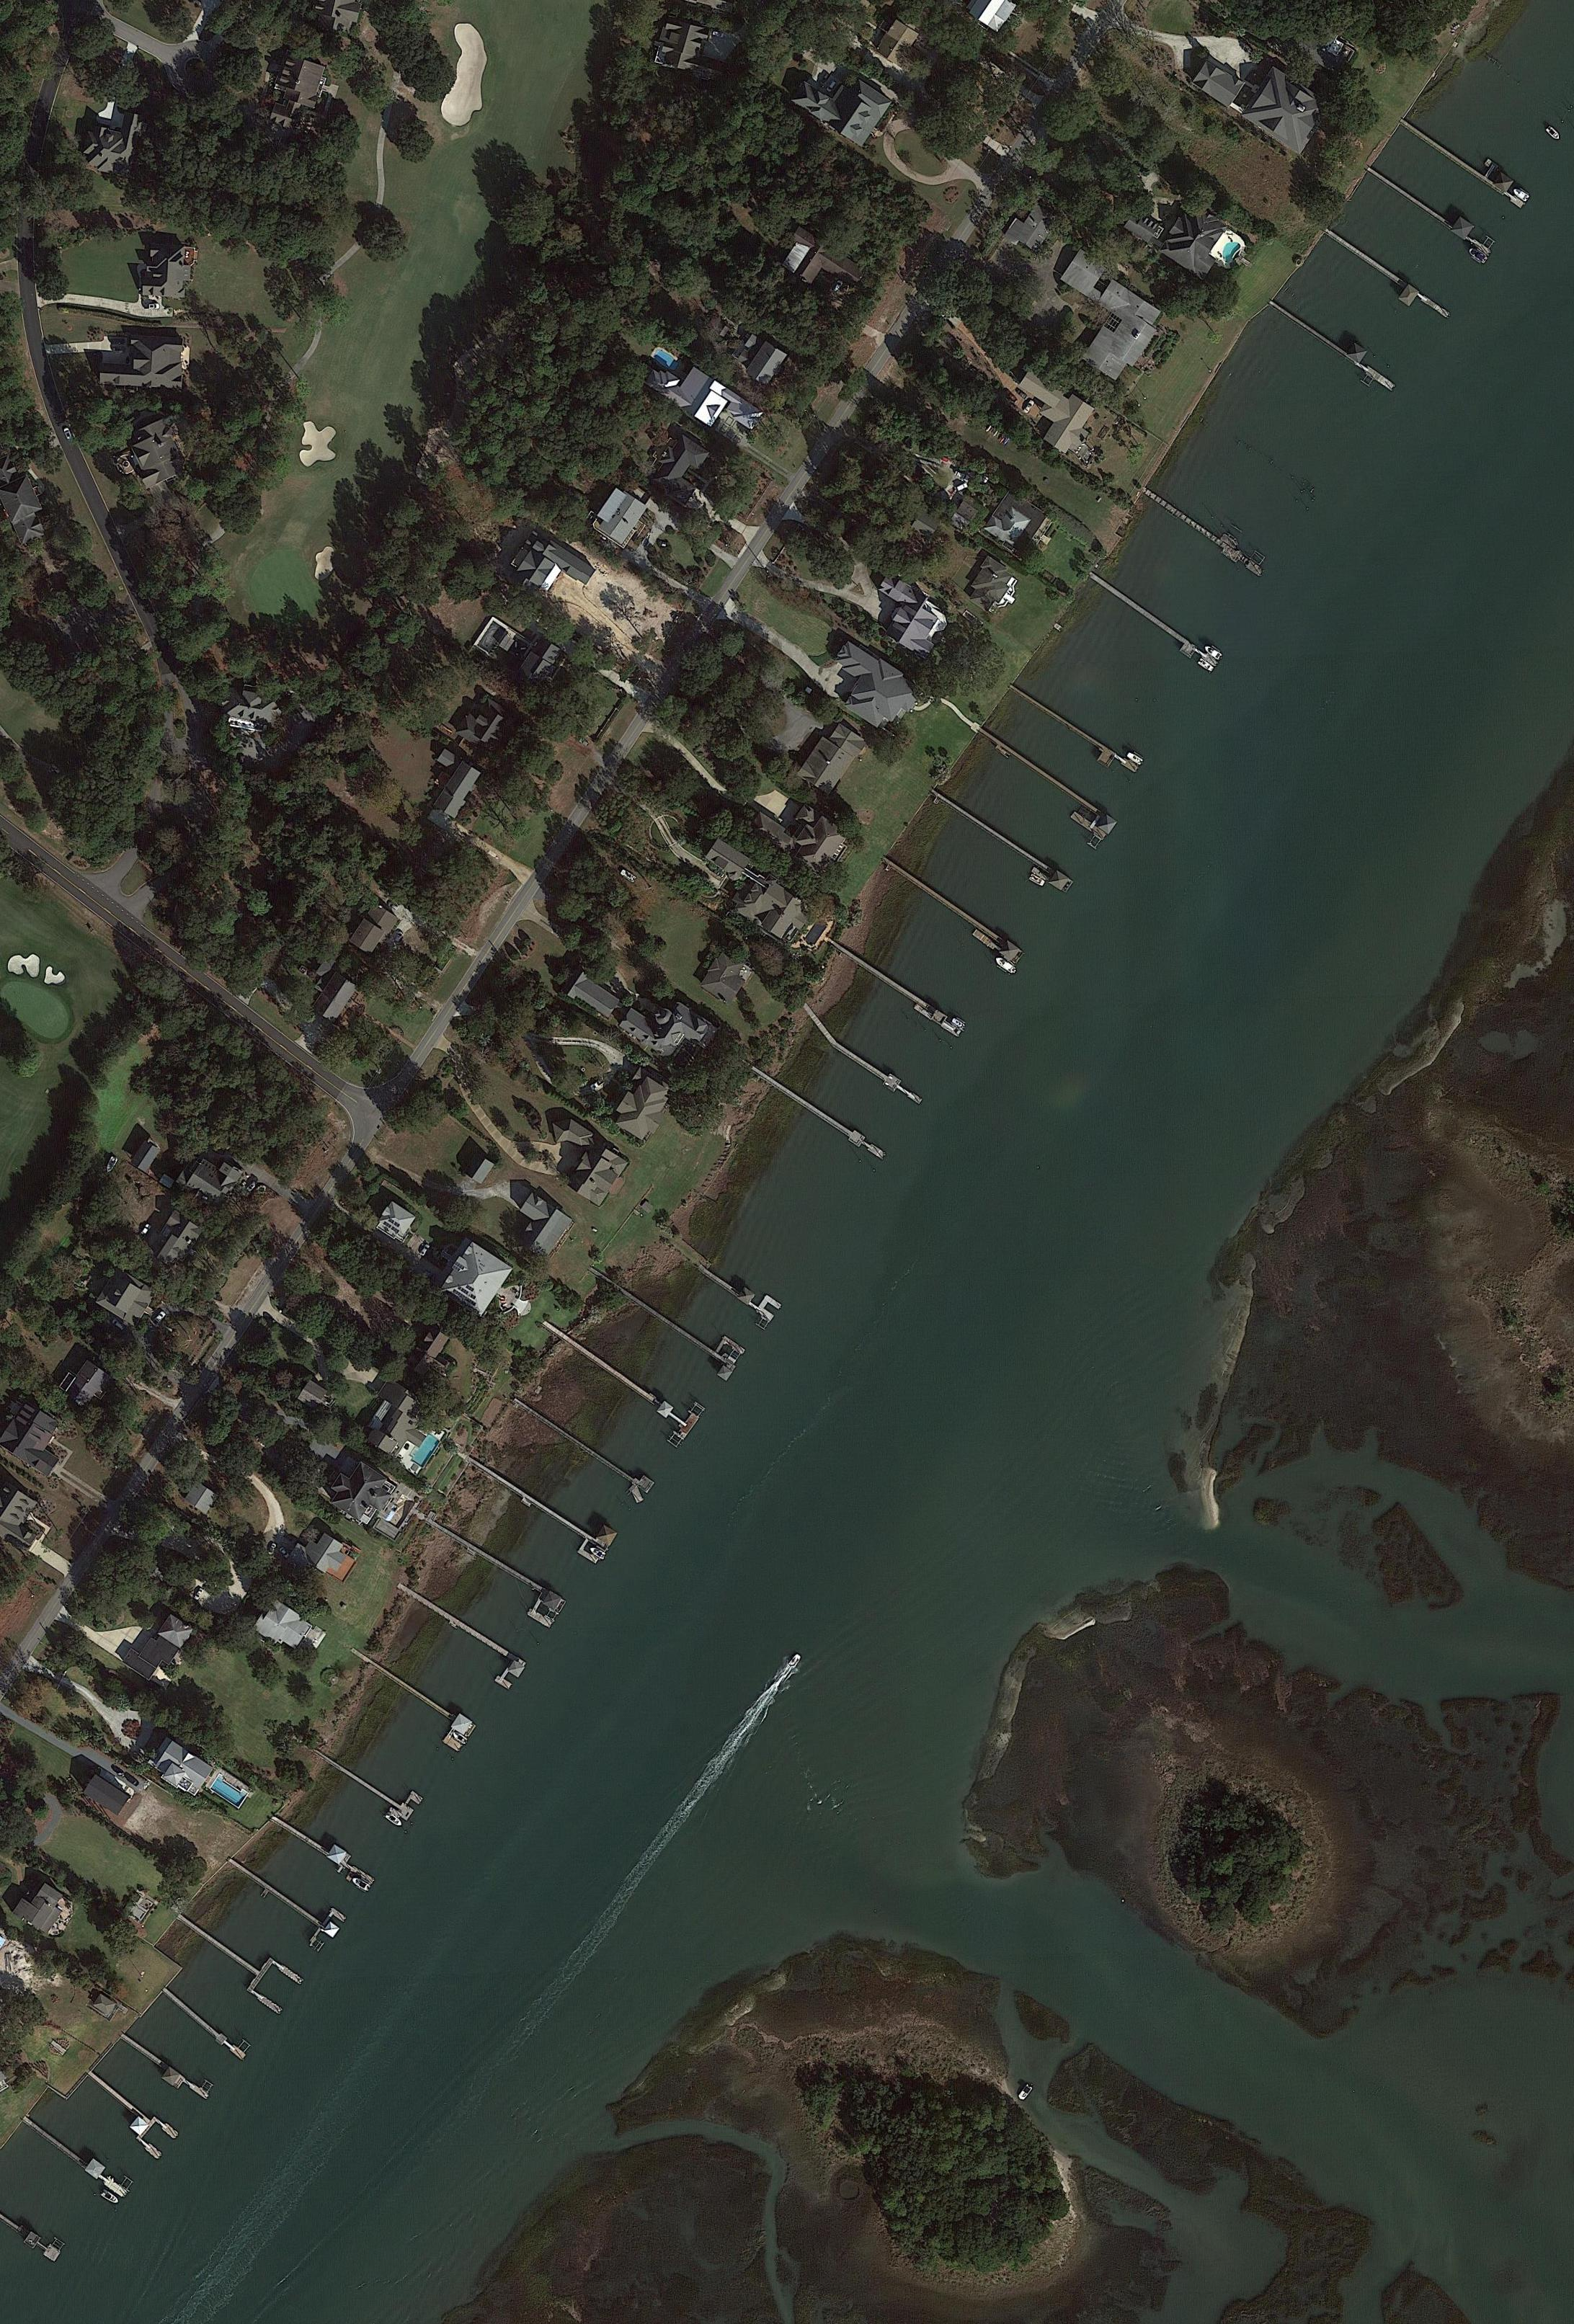harbor: (585, 1259, 747, 1382), (462, 1442, 618, 1565), (546, 1316, 701, 1439), (506, 1388, 655, 1505), (968, 729, 1117, 843), (418, 1518, 567, 1630), (165, 1897, 306, 2015), (877, 857, 1026, 968), (926, 790, 1073, 896), (392, 1586, 529, 1693), (213, 1846, 346, 1955), (341, 1649, 478, 1753), (826, 936, 964, 1038), (1086, 571, 1219, 673), (1270, 290, 1405, 390), (754, 1065, 887, 1161), (1321, 230, 1451, 328), (1368, 160, 1498, 258), (1007, 685, 1138, 782), (1402, 112, 1532, 209), (1144, 483, 1268, 578), (23, 2108, 132, 2203), (76, 2061, 179, 2159), (316, 1734, 423, 1822), (269, 1811, 379, 1894), (829, 1038, 928, 1110), (116, 2032, 209, 2106), (160, 1987, 249, 2062), (694, 1252, 783, 1324), (0, 2208, 63, 2264)
ship: (994, 956, 1017, 975), (1195, 657, 1214, 675), (1203, 643, 1223, 660), (385, 1811, 404, 1829), (1546, 123, 1562, 142), (1124, 750, 1144, 766), (100, 2190, 119, 2206), (104, 1156, 119, 1175), (588, 1546, 606, 1562), (620, 868, 638, 884), (787, 1651, 803, 1669), (1028, 873, 1047, 887), (1513, 188, 1532, 202), (450, 1730, 469, 1744), (351, 1878, 371, 1890)
